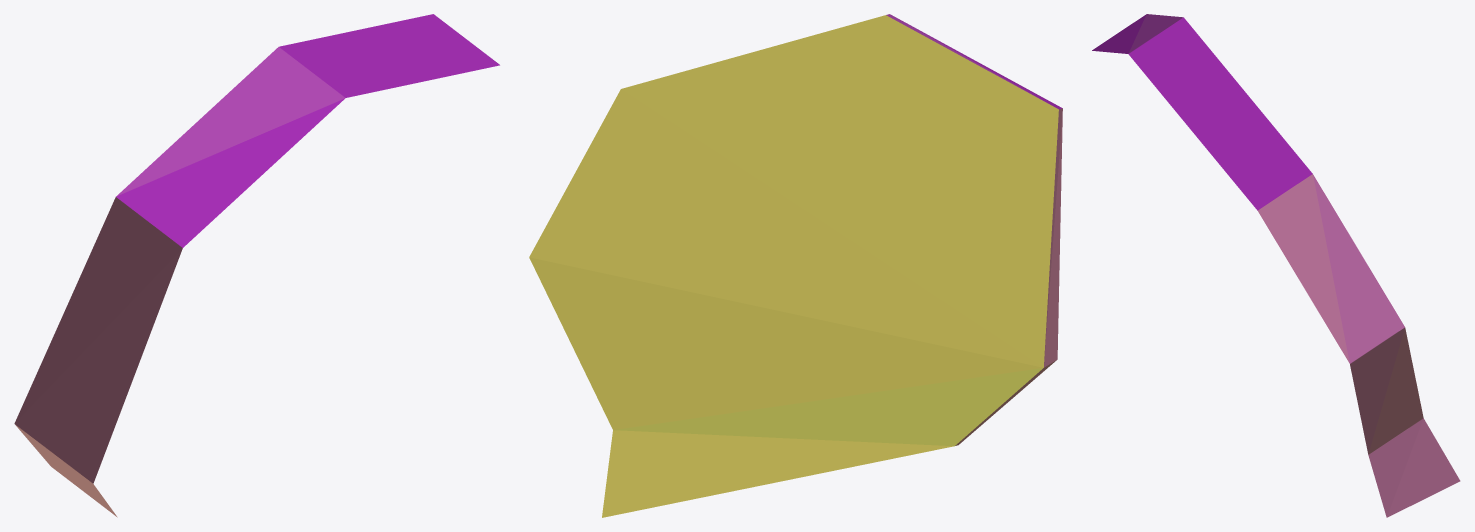
3 views of the same model, side by side, from view 1: azimuth 30°, elevation 25°; view 2: azimuth 150°, elevation 25°; view 3: azimuth 270°, elevation 25° (orthographic). The views are drawn at different scales.
Visible parts, largest first — view 1: geometry_0; view 2: geometry_0; view 3: geometry_0.
Part boxes in pixels (x1,y1,x2,y2): geometry_0: (14, 14, 499, 517); geometry_0: (529, 14, 1062, 517); geometry_0: (1092, 14, 1460, 517).
Size of the model in its own units: 13.25 by 12.75 by 10.
